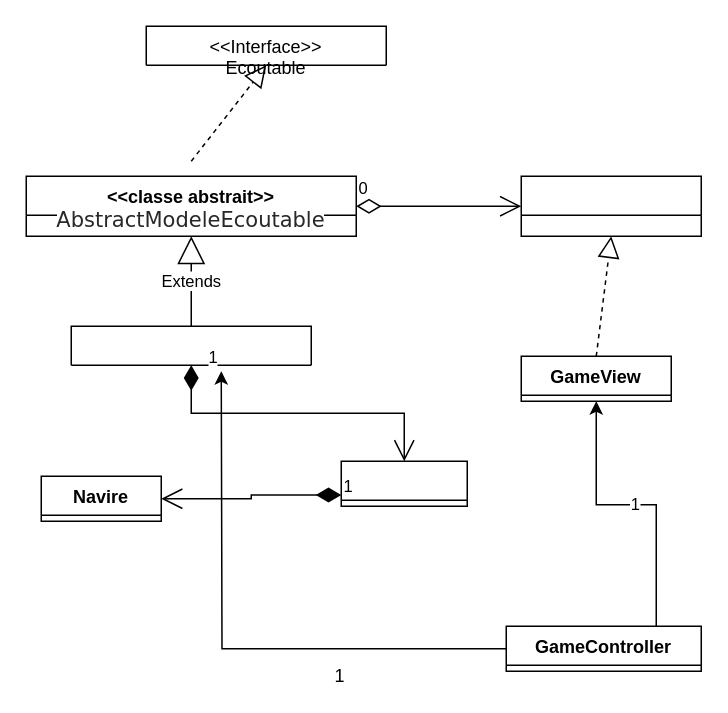
Image size: 728x713. Some labels were removed from this diagram. Here are the shapes that lost their labels. From the top down, the centre of each, then its label:
point (610, 205): <<Interface>> Ecouteur
point (190, 345): Game
point (403, 483): Map
